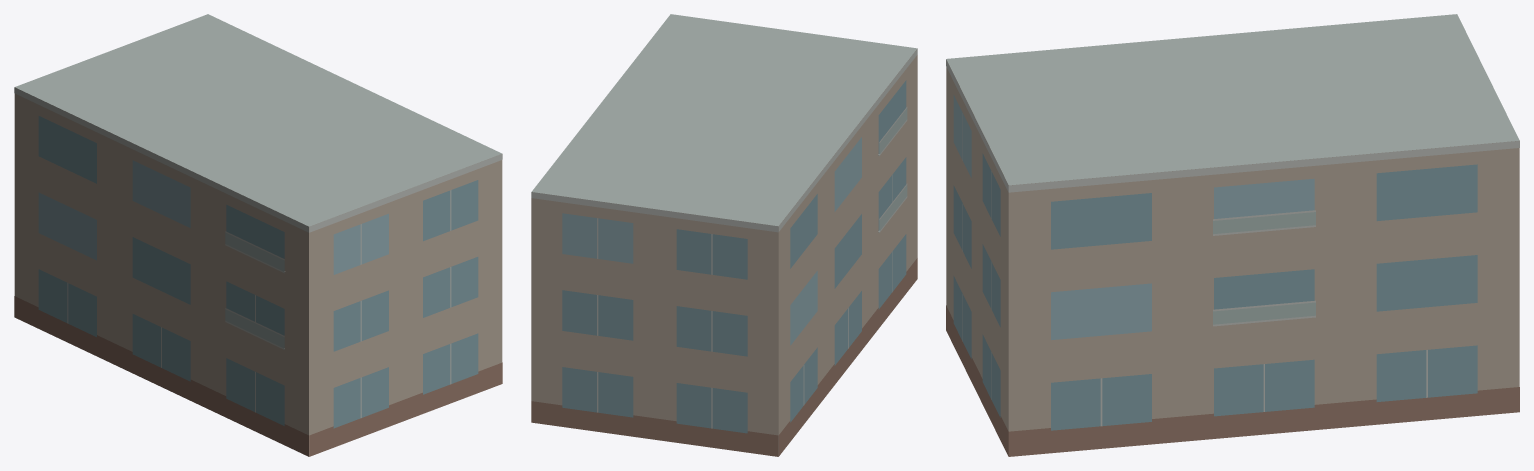
File: survey-upis-32709169.glb
The picture shows the model from 3 angles, left to right: view 1: azimuth 30°, elevation 25°; view 2: azimuth 150°, elevation 25°; view 3: azimuth 270°, elevation 25°; orthographic projection. The views are drawn at different scales.
Visible parts, largest first — view 1: survey-upis-32709169.tmp; view 2: survey-upis-32709169.tmp; view 3: survey-upis-32709169.tmp.
Boxes of the visible parts, bbox=[...] form: survey-upis-32709169.tmp: bbox=[14, 14, 502, 456]; survey-upis-32709169.tmp: bbox=[531, 14, 917, 456]; survey-upis-32709169.tmp: bbox=[946, 14, 1519, 456].
Bounding box in the file's own units: 12.4 × 9.15 × 17.53.
